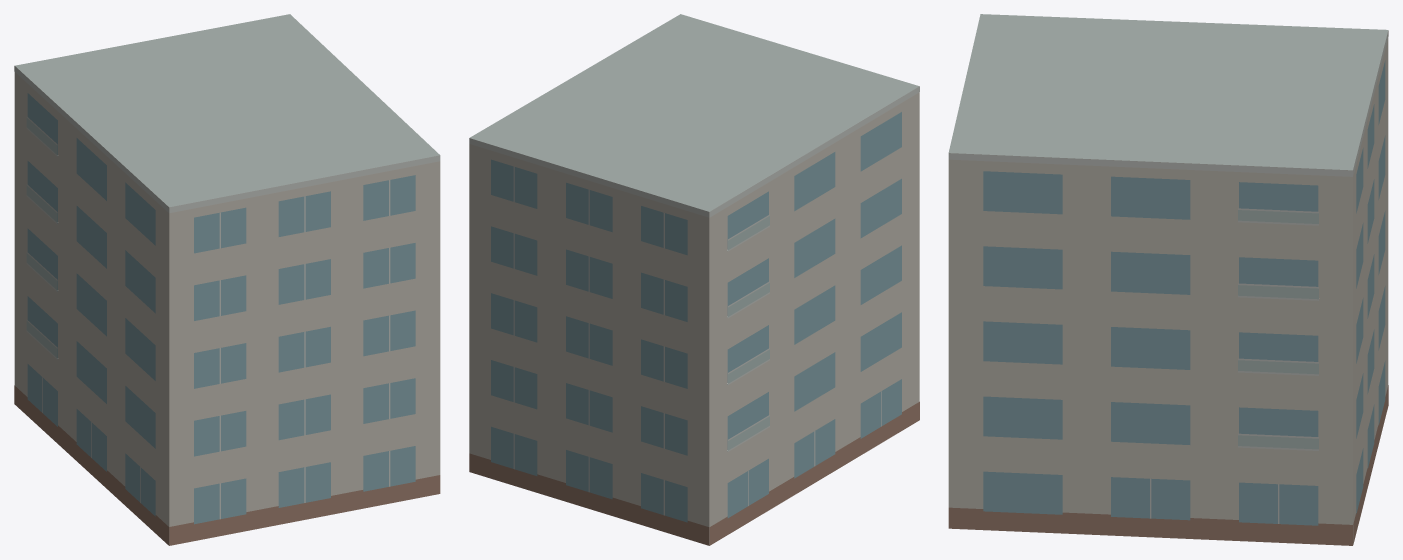
File: survey-upis-32728307.glb
3 renders of one model, left to right at view 1: azimuth 30°, elevation 25°; view 2: azimuth 150°, elevation 25°; view 3: azimuth 270°, elevation 25°, orthographic. The views are drawn at different scales.
Parts seen in each view (by area): view 1: survey-upis-32728307.tmp; view 2: survey-upis-32728307.tmp; view 3: survey-upis-32728307.tmp.
Boxes of the visible parts, <box> form: survey-upis-32728307.tmp: <box>14,14,440,545</box>; survey-upis-32728307.tmp: <box>469,14,919,545</box>; survey-upis-32728307.tmp: <box>948,14,1388,545</box>.
Bounding box in the file's own units: 12.42 × 13.9 × 14.77.
